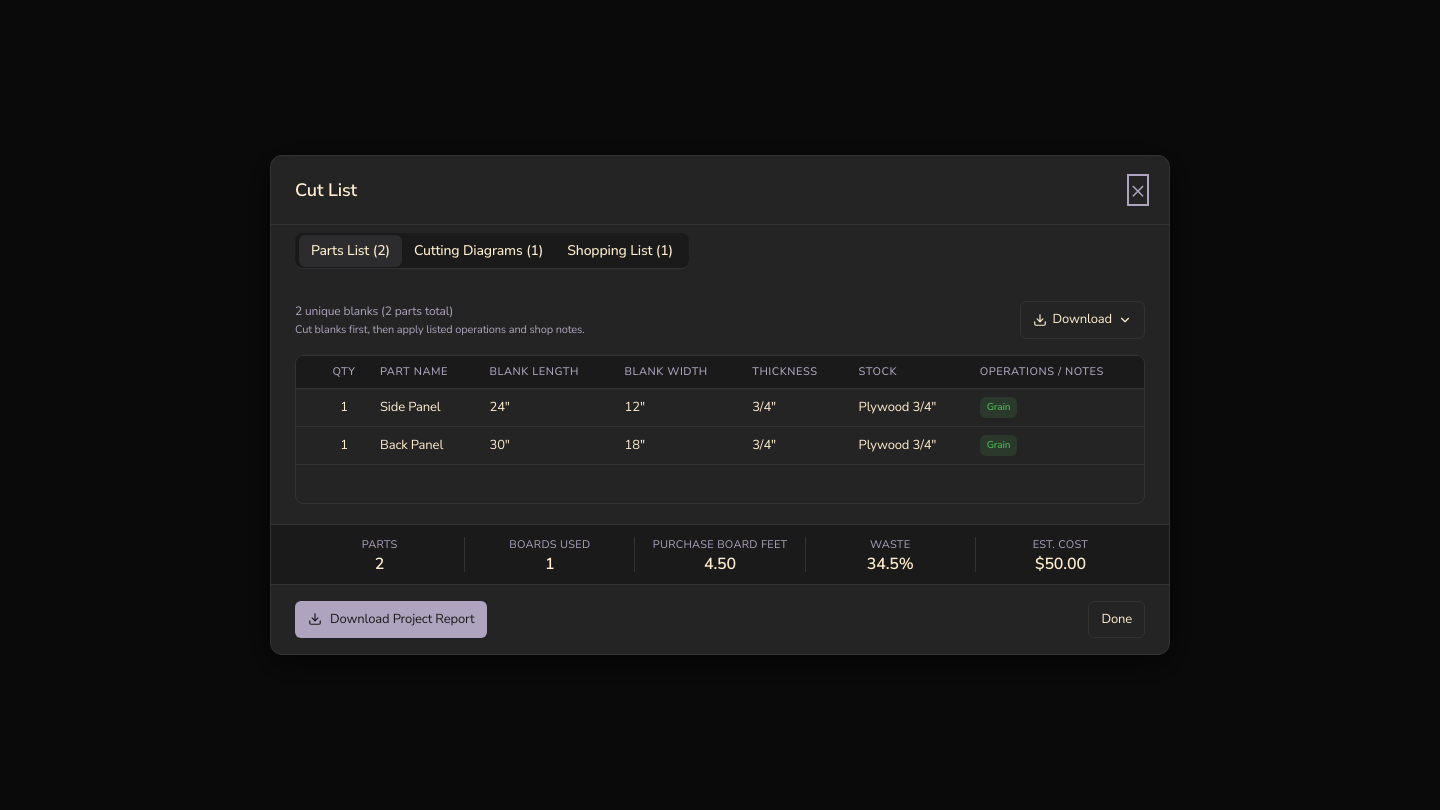
Test: CutListModal › diagrams tab › shows Download dropdown with PDF option
Press the mouse on the tab "Cutting Diagrams (1)" at [479, 250], box [402,234,555,266]
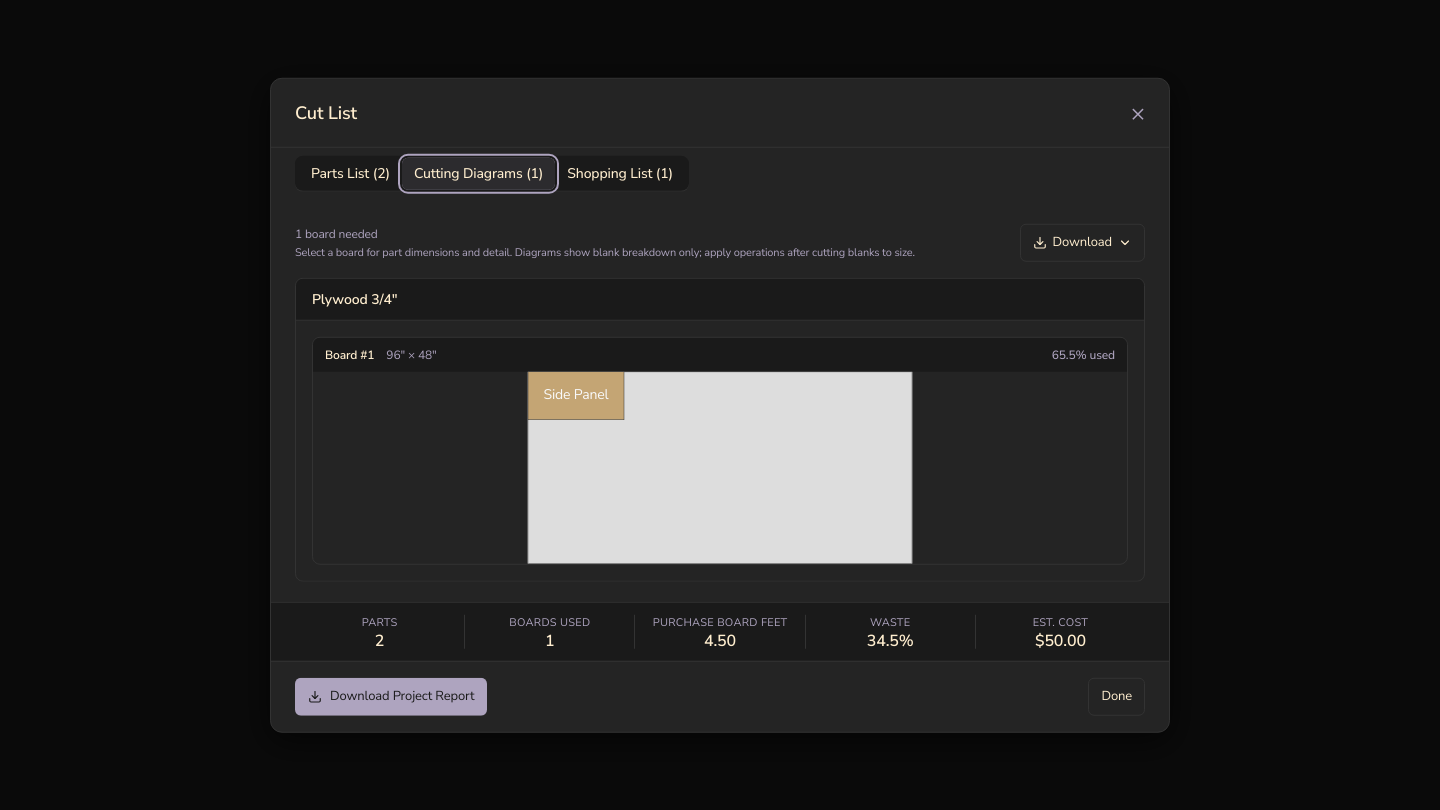
Note: Click the Download dropdown to reveal options
Click the button "Download" at [1082, 243], box [1020,224,1145,261]
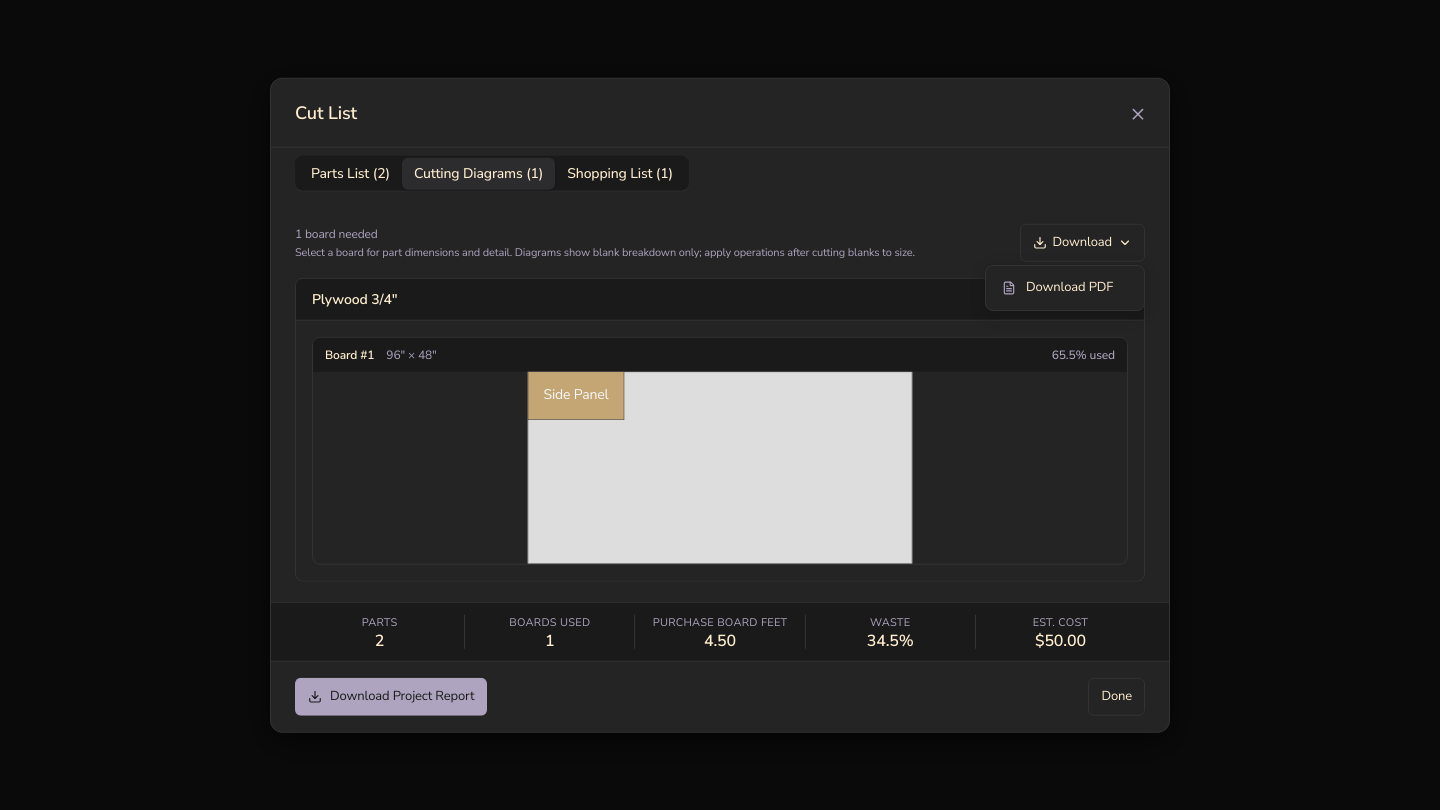
Expected: the menu item "Download PDF" is shown, [1002,278,1113,296]
